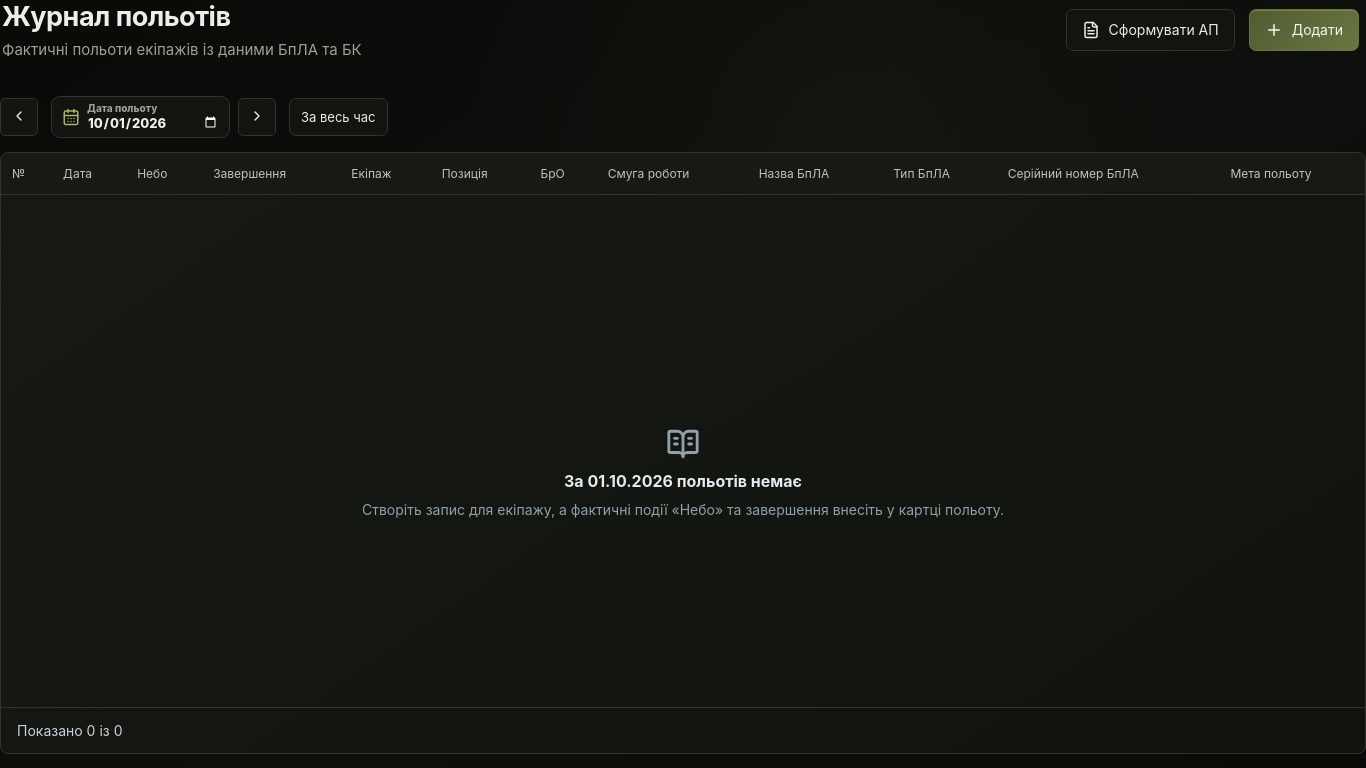
Test: Журнал польотів › не дозволяє повільному запиту попереднього екіпажу перезаписати новий вибір
Click the button "Додати" at (1304, 30), box [1249,8,1359,50]
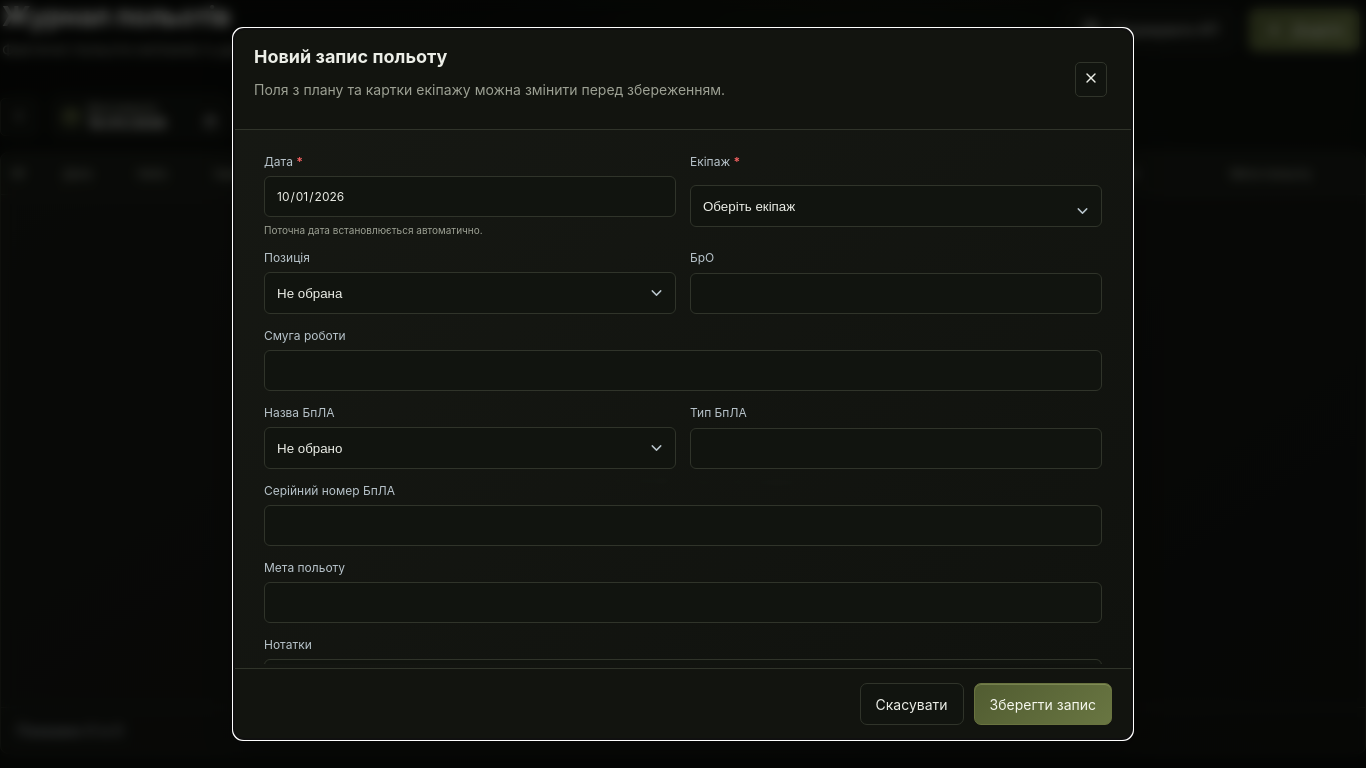
Select "ГРІМ" in the dropdown named "Екіпаж польоту" at (896, 206), box [690,185,1102,227]
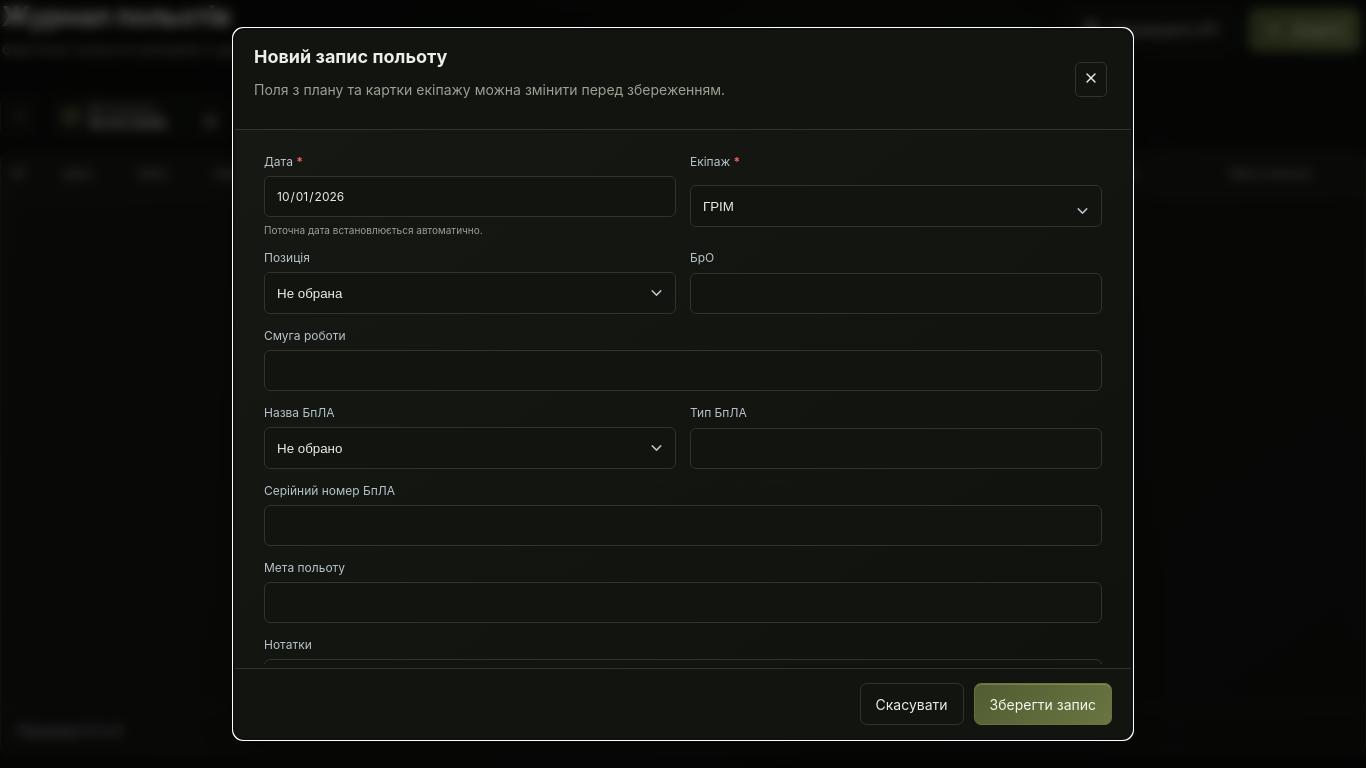
Select "БАРС" in the dropdown named "Екіпаж польоту" at (896, 206), box [690,185,1102,227]
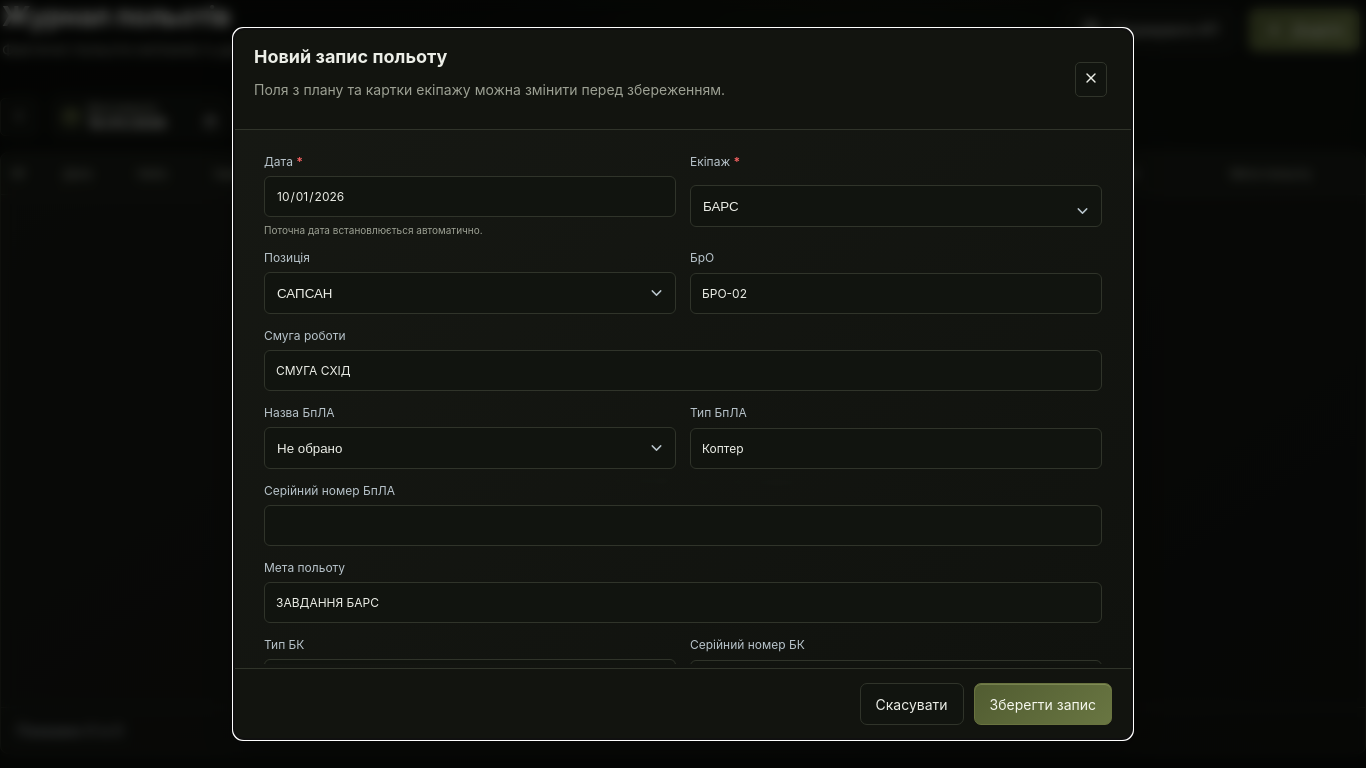
expect the field showing "ЗАВДАННЯ БАРС" is shown: met, box [264,582,1102,623]
